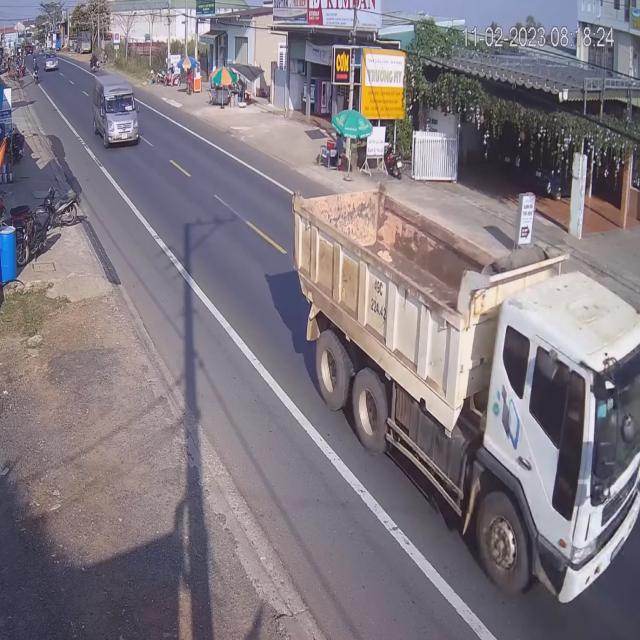bus: (91, 78, 138, 152)
car: (44, 56, 58, 74)
truck: (288, 178, 638, 604)
